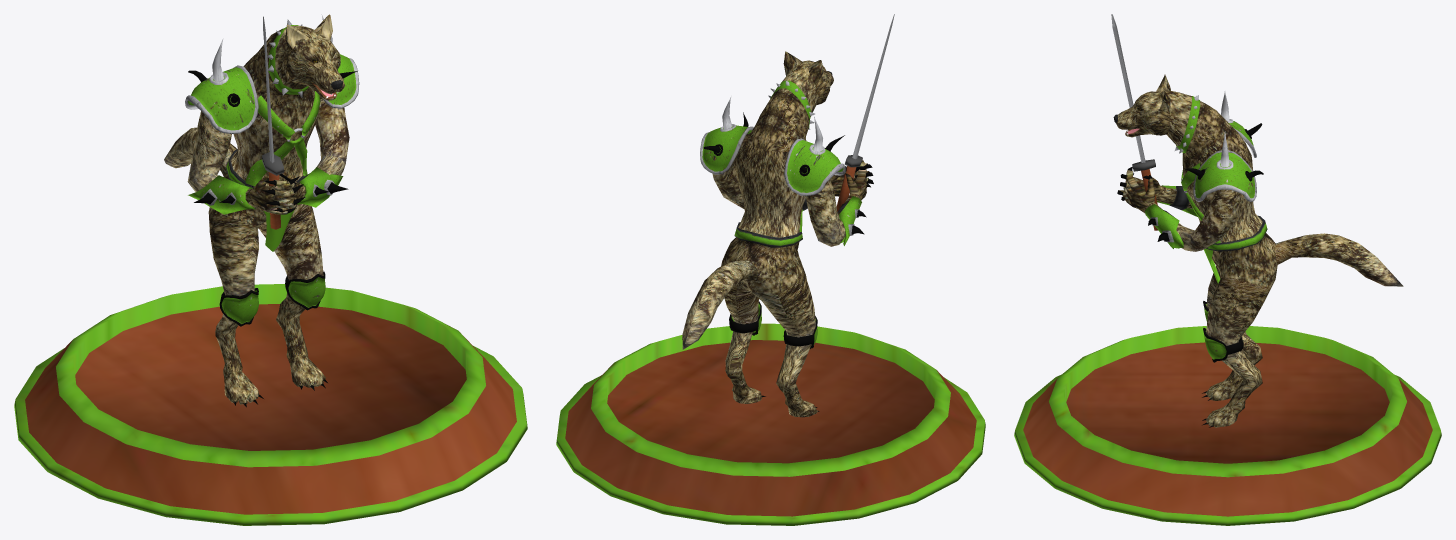
Rendered from gnoll.obj.
3 renders of one model, left to right at view 1: azimuth 30°, elevation 25°; view 2: azimuth 150°, elevation 25°; view 3: azimuth 270°, elevation 25°, orthographic. The views are drawn at different scales.
Visible parts, largest first — view 1: polySurface52; view 2: polySurface52; view 3: polySurface52.
Part boxes in pixels (box(x1,y1,x2,y2)): polySurface52: box(14, 14, 527, 525); polySurface52: box(556, 14, 985, 525); polySurface52: box(1014, 14, 1441, 525).
Bounding box in the file's own units: 7.93 × 7.98 × 7.93.
